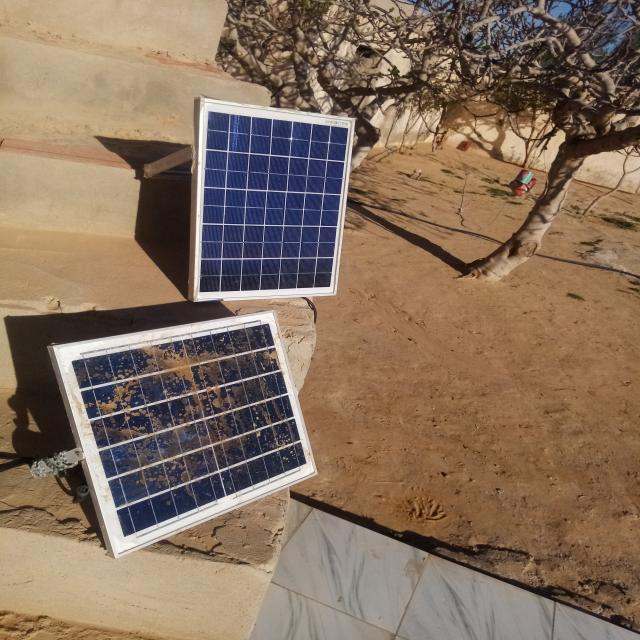faulty: (54, 311, 318, 556)
no faulty: (195, 100, 356, 302)
